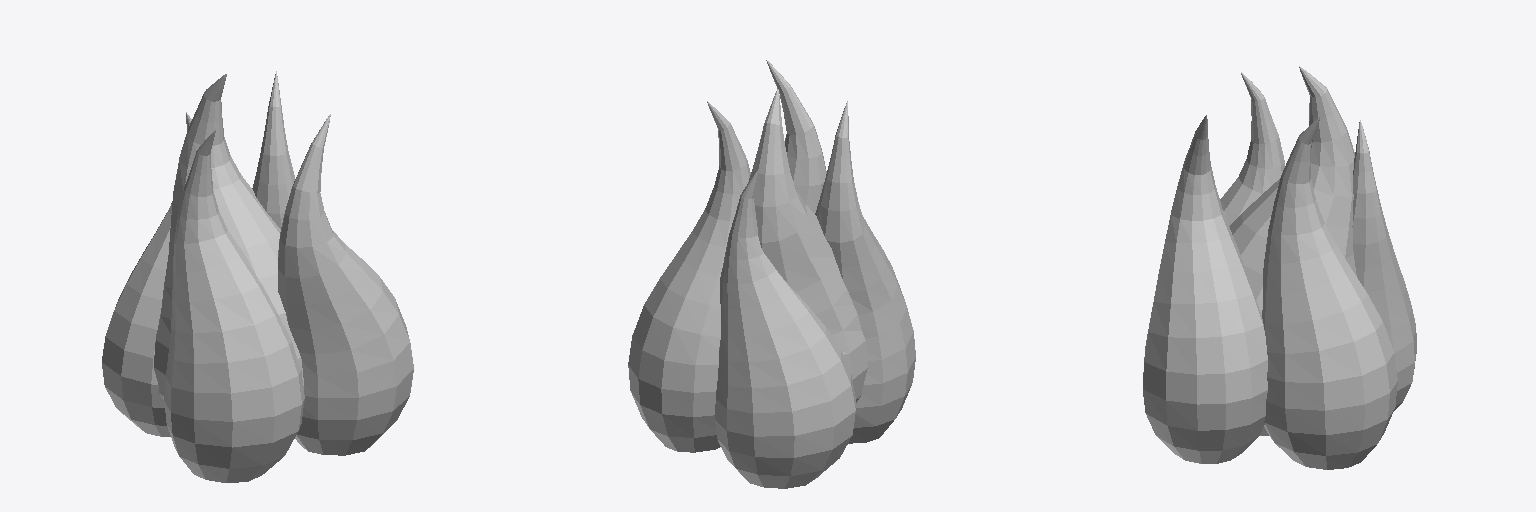
Rendered from fire_000006.obj.
The picture shows the model from 3 angles: view 1: azimuth 30°, elevation 25°; view 2: azimuth 150°, elevation 25°; view 3: azimuth 270°, elevation 25°; orthographic projection.
Visible parts, largest first — view 1: flame_NurbsPath.015; view 2: flame_NurbsPath.015; view 3: flame_NurbsPath.015.
Boxes of the visible parts, box(x1,y1,x2,y2) form: flame_NurbsPath.015: box(102, 71, 413, 482); flame_NurbsPath.015: box(628, 60, 915, 488); flame_NurbsPath.015: box(1143, 66, 1416, 469).
Bounding box in the file's own units: 0.7548 × 1.16 × 0.7981.